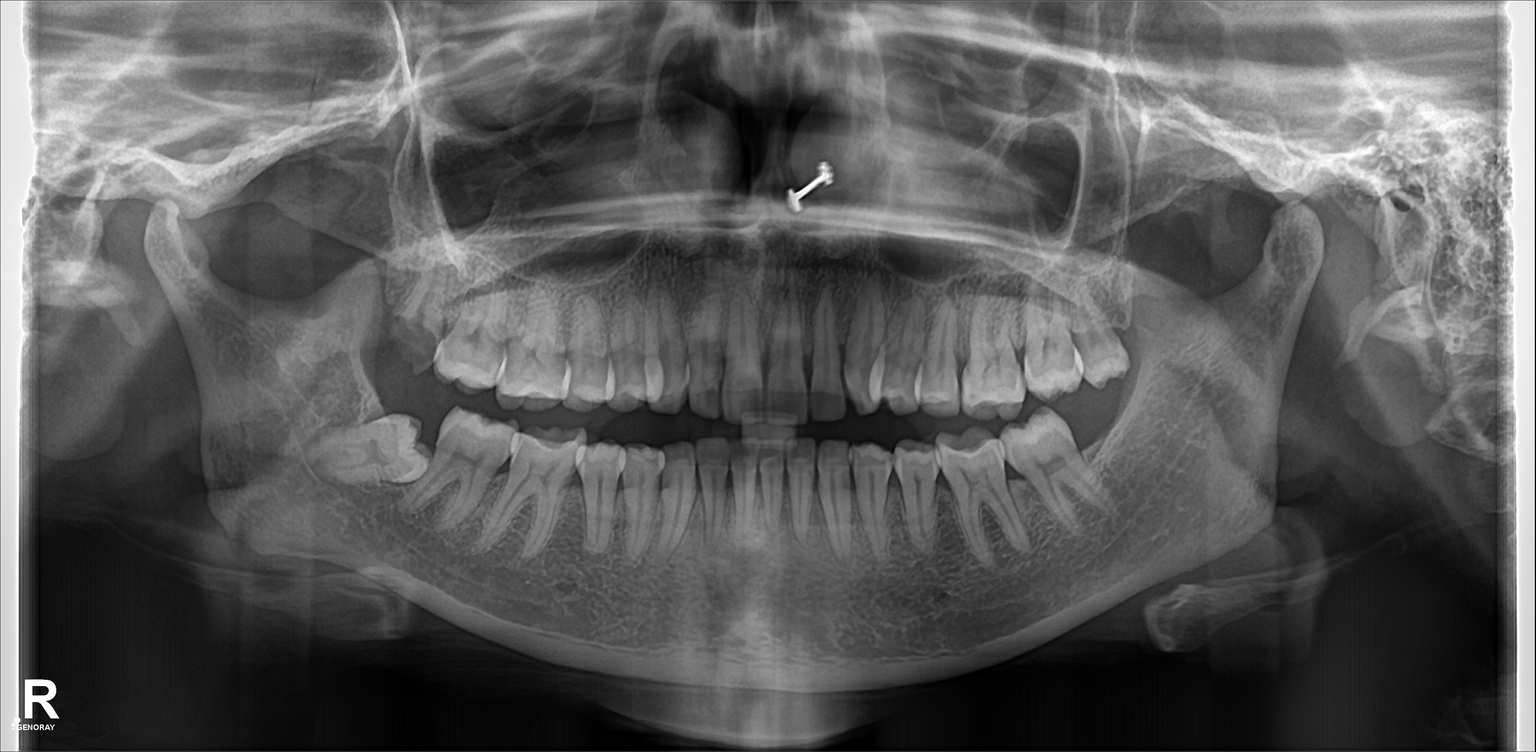Dental Caries: (385, 315, 437, 371)
Impacted Third Molar: (320, 419, 425, 484)
Missing Tooth: (1073, 393, 1125, 463)
Tooth Fracture: (378, 255, 444, 369)
